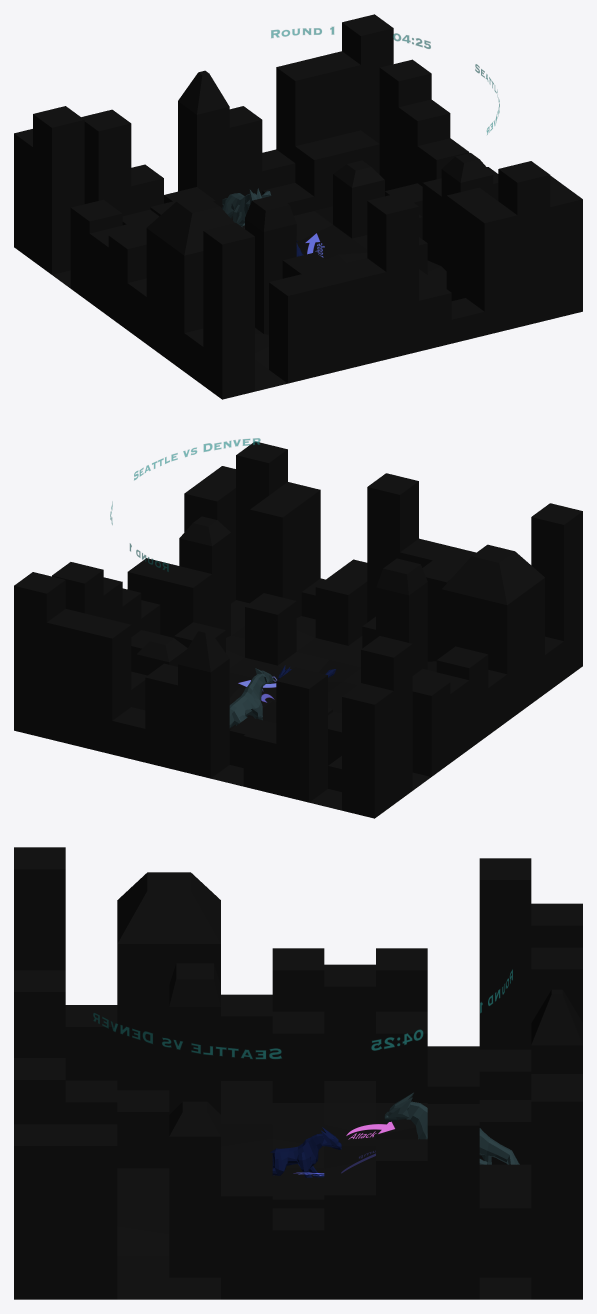
Rendered from city2.gltf.
The picture shows the model from 3 angles, top to bottom: view 1: azimuth 30°, elevation 25°; view 2: azimuth 150°, elevation 25°; view 3: azimuth 270°, elevation 25°; orthographic projection. The views are drawn at different scales.
Parts seen in each view (by area): view 1: Plane, body, Untitled-3; view 2: Plane, body, Untitled-3; view 3: Plane, body, body.002, Untitled-3.
Boxes of the visible parts, x1=… form: Plane: x1=14, y1=14, x2=582, y2=399; body: x1=222, y1=188, x2=271, y2=227; Untitled-3: x1=271, y1=26, x2=499, y2=134; Plane: x1=14, y1=441, x2=582, y2=818; body: x1=229, y1=668, x2=274, y2=727; Untitled-3: x1=110, y1=438, x2=260, y2=571; Plane: x1=14, y1=847, x2=582, y2=1299; body: x1=384, y1=1092, x2=519, y2=1164; body.002: x1=270, y1=1127, x2=341, y2=1177; Untitled-3: x1=93, y1=969, x2=512, y2=1059.
Bounding box in the file's own units: 84 × 44.17 × 84.
Materials: 7 (4 with a texture image).
